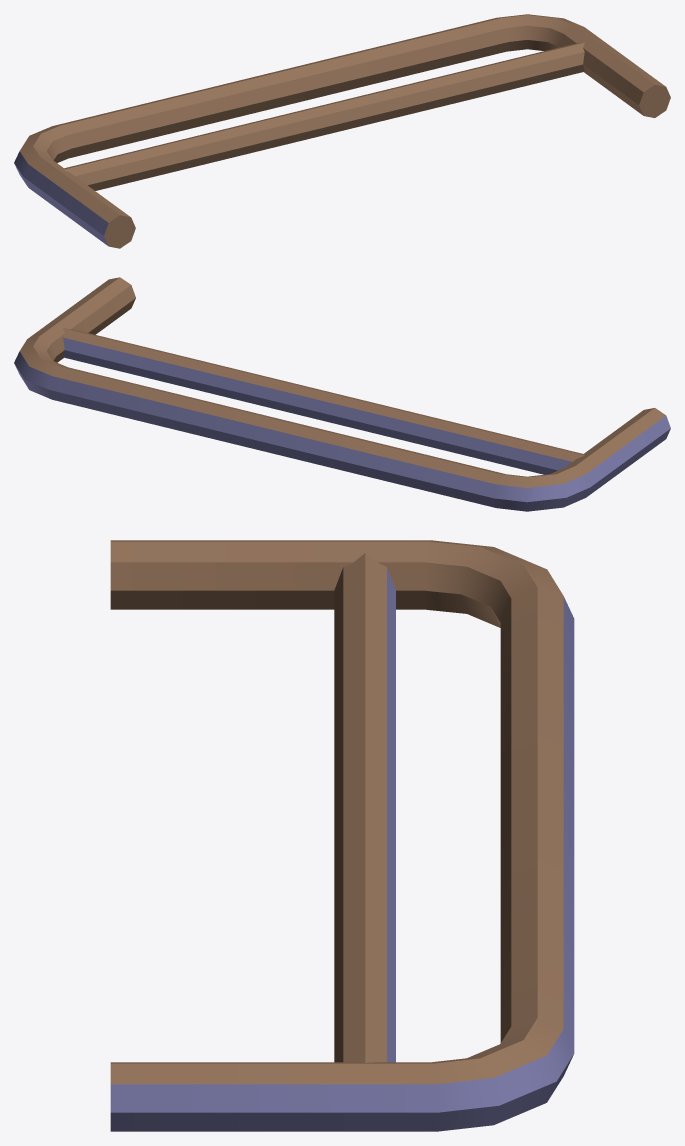
Rendered from XiaoFang3_Mo.fbx.
The picture shows the model from 3 angles, top to bottom: view 1: azimuth 30°, elevation 25°; view 2: azimuth 150°, elevation 25°; view 3: azimuth 270°, elevation 25°; orthographic projection. The views are drawn at different scales.
Parts seen in each view (by area): view 1: lv2_langan_0; view 2: lv2_langan_0; view 3: lv2_langan_0.
Boxes of the visible parts, bbox=[...] form: lv2_langan_0: bbox=[14, 14, 670, 248]; lv2_langan_0: bbox=[14, 277, 670, 511]; lv2_langan_0: bbox=[110, 540, 574, 1131].
Size of the model in its own units: 398 by 22.45 by 141.
Materials: 1 (1 with a texture image).
